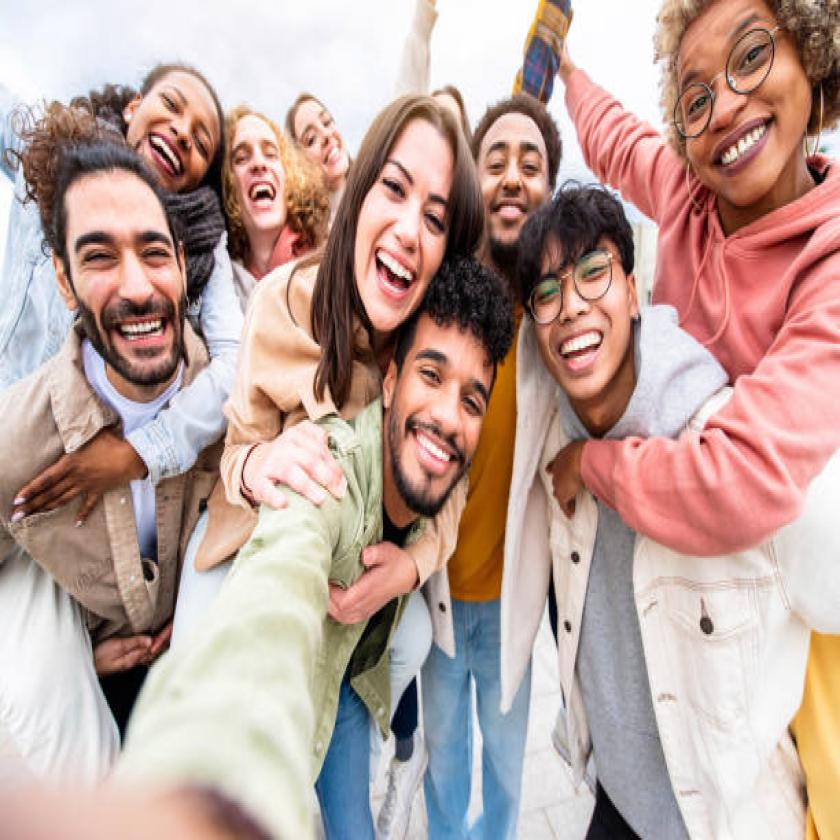Sin_casco: (40, 128, 193, 402), (385, 236, 522, 539), (658, 0, 836, 217), (342, 88, 472, 350), (516, 184, 646, 435), (124, 47, 232, 210), (472, 91, 561, 280), (216, 90, 292, 270), (283, 82, 359, 193)
